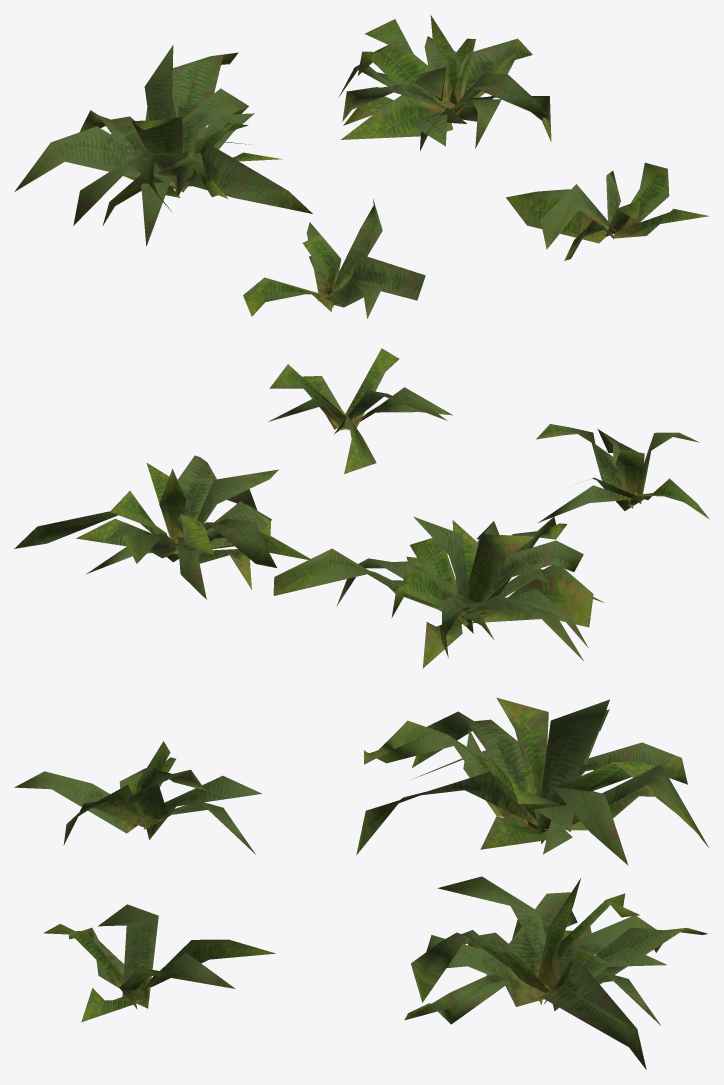
Rendered from fern_lo.glb.
3 renders of one model, top to bottom at view 1: azimuth 30°, elevation 25°; view 2: azimuth 150°, elevation 25°; view 3: azimuth 270°, elevation 25°, orthographic. The views are drawn at different scales.
Visible parts, largest first — view 1: fern_02_b, fern_02_c, fern_02_d, fern_02_a; view 2: fern_02_b, fern_02_c, fern_02_d, fern_02_a; view 3: fern_02_b, fern_02_c, fern_02_d, fern_02_a.
Part boxes in pixels (box(x1,y1,x2,y2)): fern_02_b: box(14, 45, 312, 246); fern_02_c: box(338, 15, 551, 150); fern_02_d: box(506, 162, 709, 260); fern_02_a: box(243, 199, 425, 318); fern_02_b: box(273, 516, 604, 668); fern_02_c: box(14, 455, 309, 599); fern_02_d: box(268, 348, 452, 473); fern_02_a: box(536, 424, 709, 522); fern_02_b: box(356, 697, 709, 865); fern_02_c: box(404, 876, 707, 1069); fern_02_d: box(43, 904, 275, 1022); fern_02_a: box(14, 741, 262, 854).
Bounding box in the file's own units: 1.93 × 0.4247 × 1.72.
1 material, 1 textured.
